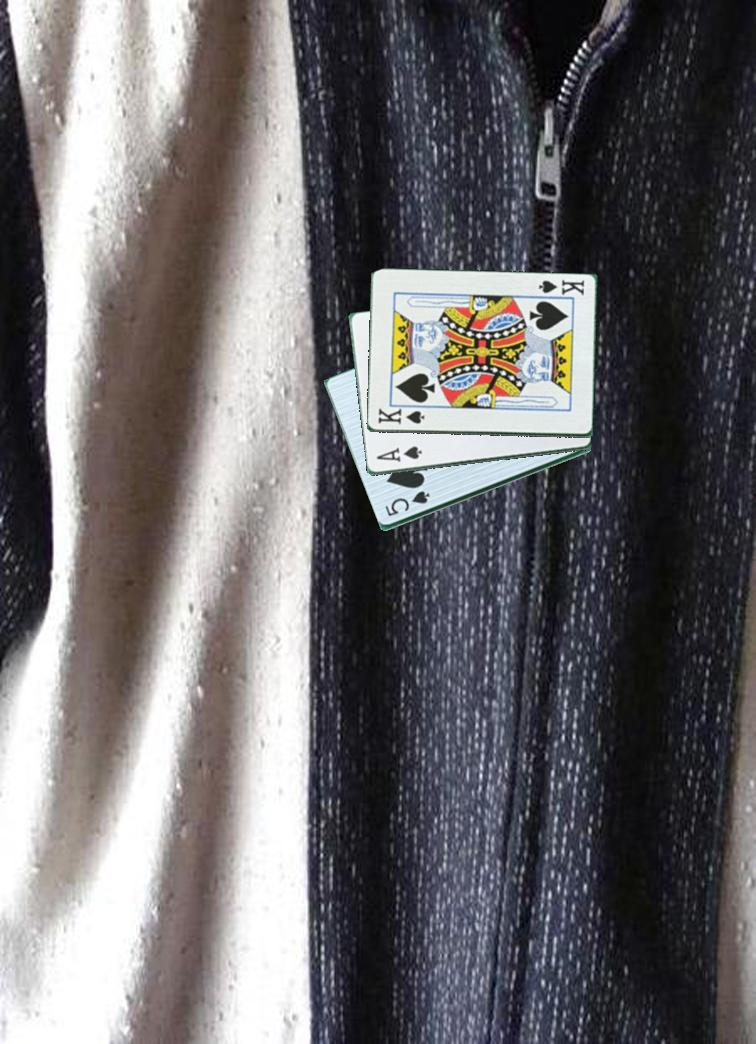5s: (380, 489, 432, 522)
as: (373, 444, 425, 465)
ks: (535, 277, 592, 299), (374, 406, 427, 427)
